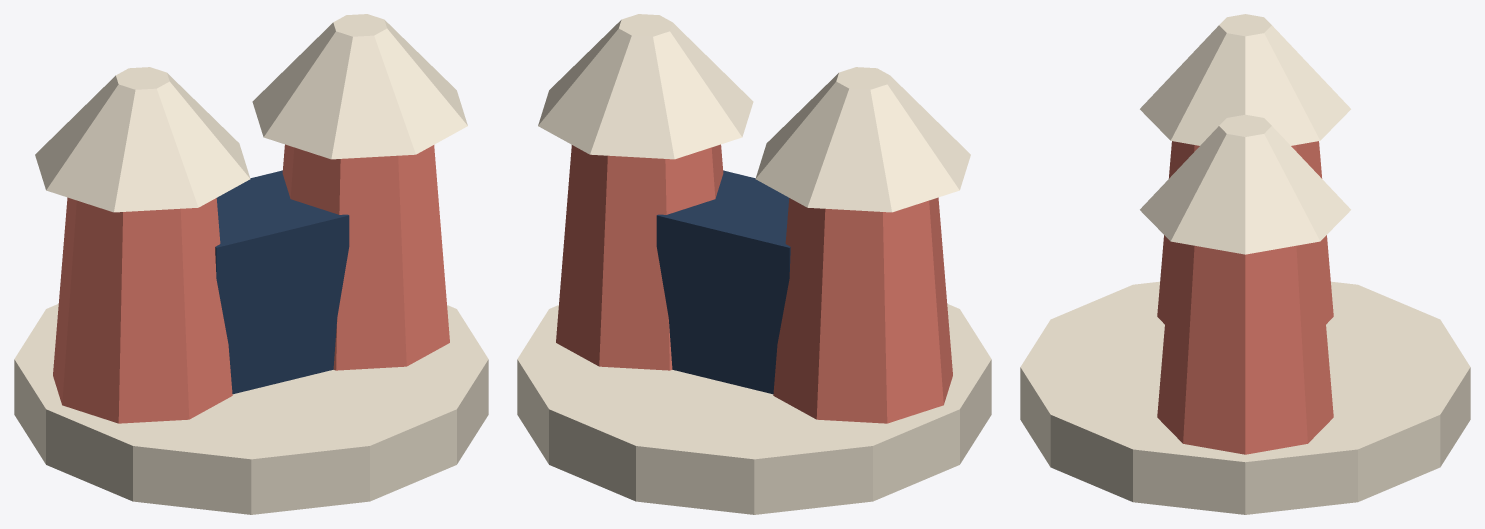
File: bastion.glb
3 renders of one model, left to right at view 1: azimuth 30°, elevation 25°; view 2: azimuth 150°, elevation 25°; view 3: azimuth 270°, elevation 25°, orthographic. The views are drawn at different scales.
Visible parts, largest first — view 1: Building foundation, Coral bastion tower, Coral bastion tower.001, Bastion gate, Shell battlement, Shell battlement.001; view 2: Building foundation, Coral bastion tower, Coral bastion tower.001, Bastion gate, Shell battlement, Shell battlement.001; view 3: Building foundation, Coral bastion tower.001, Shell battlement.001, Shell battlement, Coral bastion tower.
Part boxes in pixels (box(x1,y1,x2,y2)): Building foundation: box(14, 304, 488, 514); Coral bastion tower: box(53, 197, 232, 423); Coral bastion tower.001: box(282, 144, 449, 370); Bastion gate: box(215, 170, 349, 394); Shell battlement: box(35, 67, 250, 212); Shell battlement.001: box(252, 14, 467, 159); Building foundation: box(517, 304, 991, 514); Coral bastion tower: box(773, 197, 952, 423); Coral bastion tower.001: box(556, 144, 723, 370); Bastion gate: box(656, 170, 790, 394); Shell battlement: box(755, 67, 970, 212); Shell battlement.001: box(538, 14, 753, 159); Building foundation: box(1020, 281, 1470, 514); Coral bastion tower.001: box(1157, 242, 1333, 454); Shell battlement.001: box(1140, 114, 1350, 254); Shell battlement: box(1140, 14, 1350, 145); Coral bastion tower: box(1157, 141, 1333, 324).
Bounding box in the file's own units: 0.085 × 0.0718 × 0.085.
